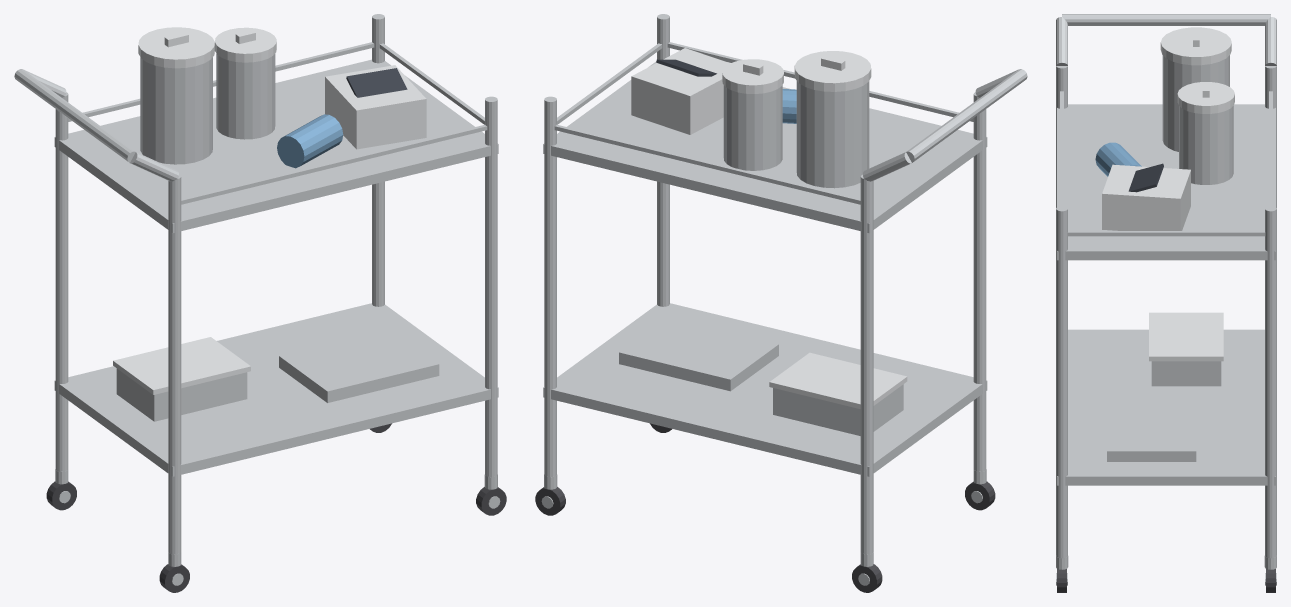
Rendered from wagon_v1.fbx.
3 renders of one model, left to right at view 1: azimuth 30°, elevation 25°; view 2: azimuth 150°, elevation 25°; view 3: azimuth 270°, elevation 25°, orthographic. The views are drawn at different scales.
Visible parts, largest first — view 1: 09_TreatmentCart_Intact_Mesh; view 2: 09_TreatmentCart_Intact_Mesh; view 3: 09_TreatmentCart_Intact_Mesh.
Boxes of the visible parts, bbox=[...] form: 09_TreatmentCart_Intact_Mesh: bbox=[14, 14, 506, 592]; 09_TreatmentCart_Intact_Mesh: bbox=[535, 14, 1027, 592]; 09_TreatmentCart_Intact_Mesh: bbox=[1056, 14, 1276, 592].
Bounding box in the file's own units: 80.88 × 99.2 × 44.45.
